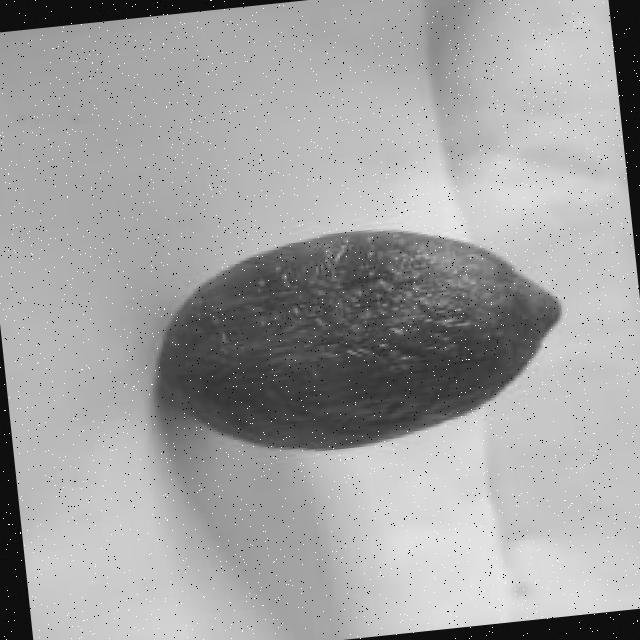overripe: (143, 208, 582, 471)
